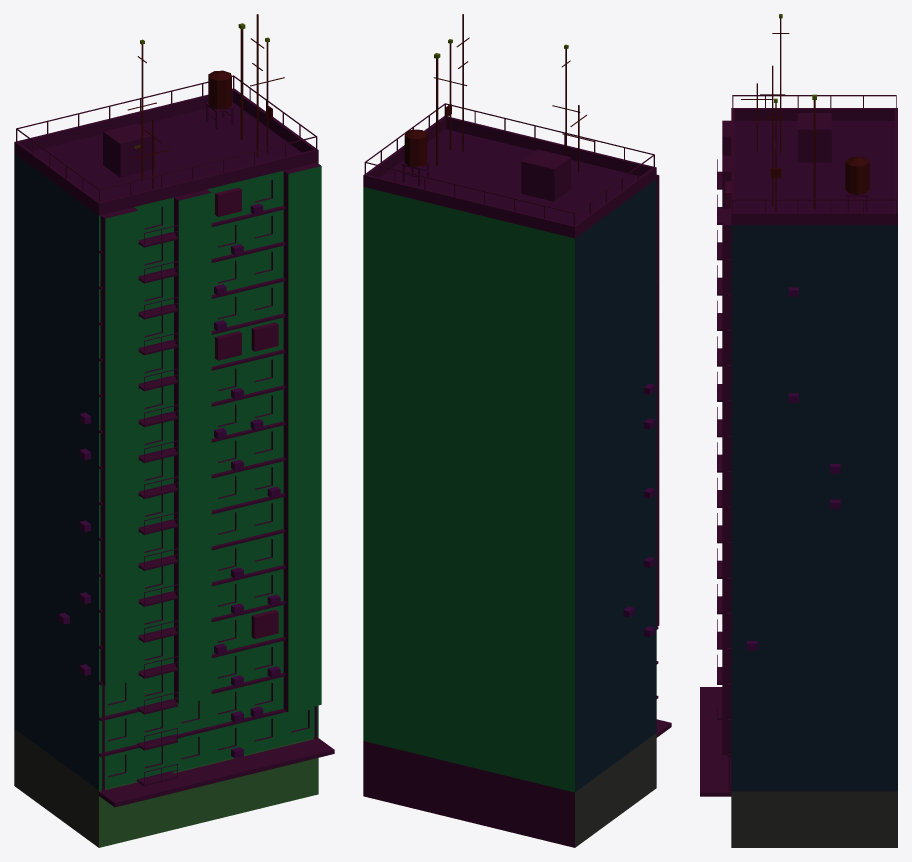
File: slab_a.glb
3 renders of one model, left to right at view 1: azimuth 30°, elevation 25°; view 2: azimuth 150°, elevation 25°; view 3: azimuth 270°, elevation 25°, orthographic. The views are drawn at different scales.
Visible parts, largest first — view 1: slab_a; view 2: slab_a; view 3: slab_a.
Part boxes in pixels (left/top/right/bottom): slab_a: left=14, top=14, right=334, bottom=847; slab_a: left=363, top=14, right=671, bottom=847; slab_a: left=700, top=14, right=897, bottom=847.
Bounding box in the file's own units: 20.3 × 64.68 × 15.2.
